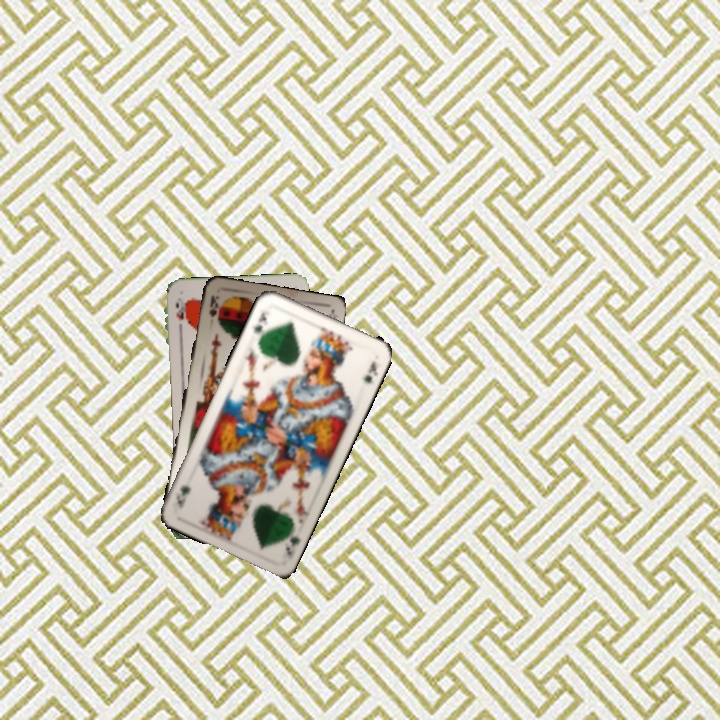GK: (249, 307, 272, 343), (282, 522, 303, 557)
HO: (172, 297, 185, 334)
SK: (205, 291, 221, 320)
